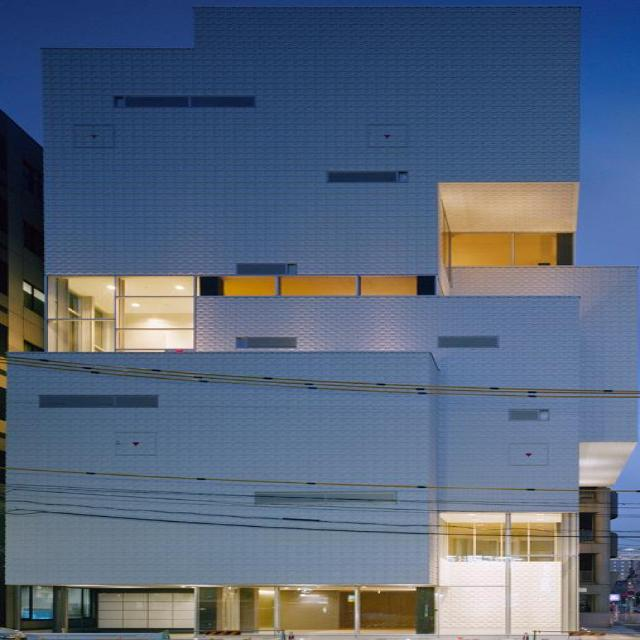door: (241, 586, 414, 628)
wall: (0, 2, 632, 629)
windows: (51, 276, 195, 351), (448, 516, 557, 560), (222, 275, 417, 295), (448, 230, 551, 264)
